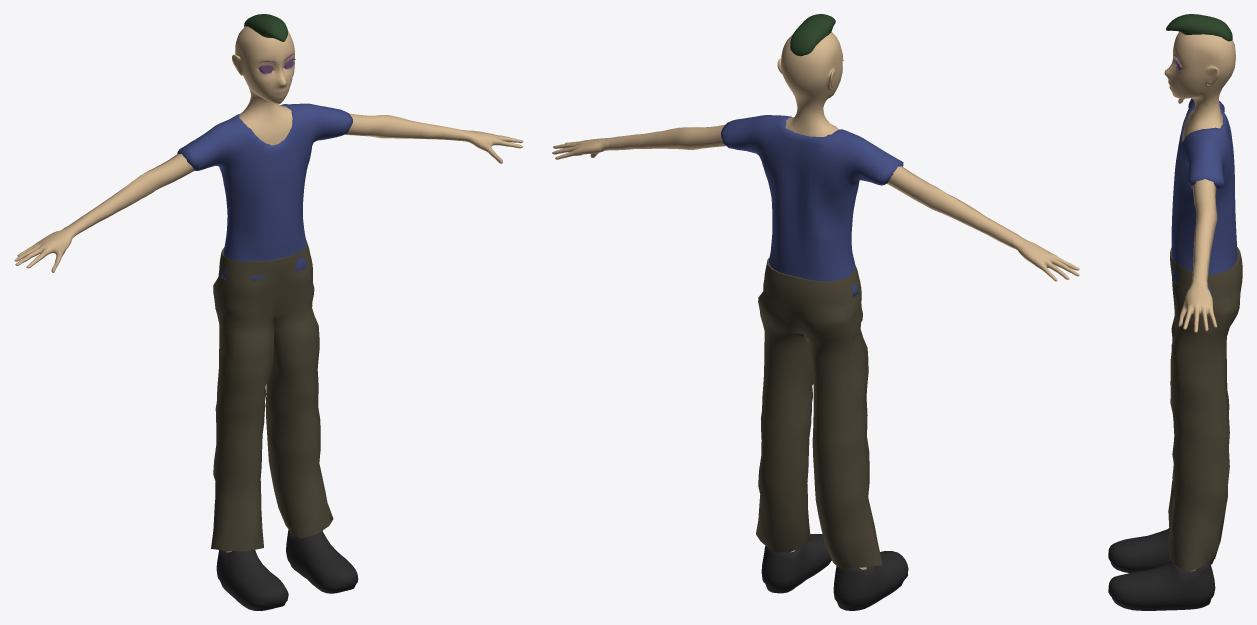
File: m_character_model.fbx
3 renders of one model, left to right at view 1: azimuth 30°, elevation 25°; view 2: azimuth 150°, elevation 25°; view 3: azimuth 270°, elevation 25°, orthographic. The views are drawn at different scales.
Visible parts, largest first — view 1: m_pants_01, m_shirt_01, m_body_01, shoes_01, m_hair_01; view 2: m_pants_01, m_shirt_01, m_body_01, shoes_01, m_hair_01; view 3: m_pants_01, m_body_01, m_shirt_01, shoes_01, m_hair_01.
Part boxes in pixels (x1,y1,x2,y2): m_pants_01: [211, 240, 333, 551]; m_shirt_01: [177, 103, 352, 280]; m_body_01: [14, 26, 523, 552]; shoes_01: [216, 529, 358, 610]; m_hair_01: [244, 14, 287, 41]; m_pants_01: [756, 257, 882, 568]; m_shirt_01: [721, 115, 903, 296]; m_body_01: [552, 32, 1079, 569]; shoes_01: [761, 534, 908, 610]; m_hair_01: [790, 14, 835, 56]; m_pants_01: [1168, 247, 1242, 571]; m_body_01: [1164, 31, 1235, 571]; m_shirt_01: [1171, 98, 1237, 293]; shoes_01: [1108, 528, 1215, 610]; m_hair_01: [1166, 14, 1232, 41].
Size of the model in its own units: 176 by 186 by 39.61.
